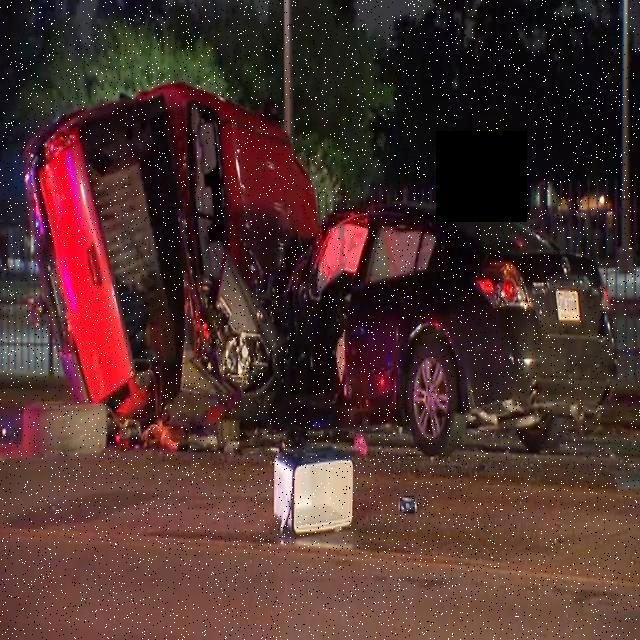severe: (18, 70, 620, 447)
